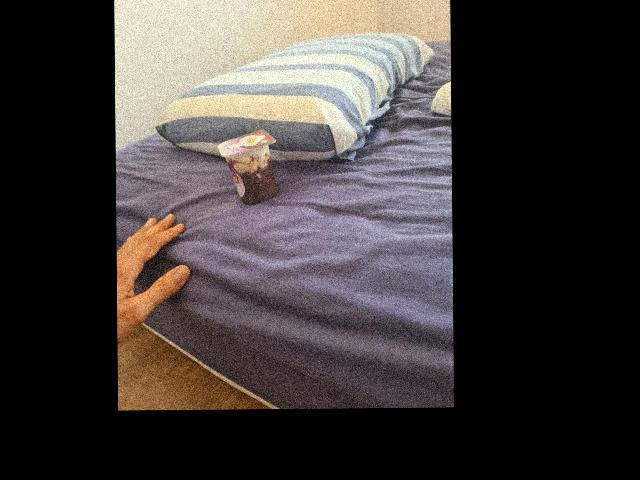milky: (222, 125, 277, 204)
